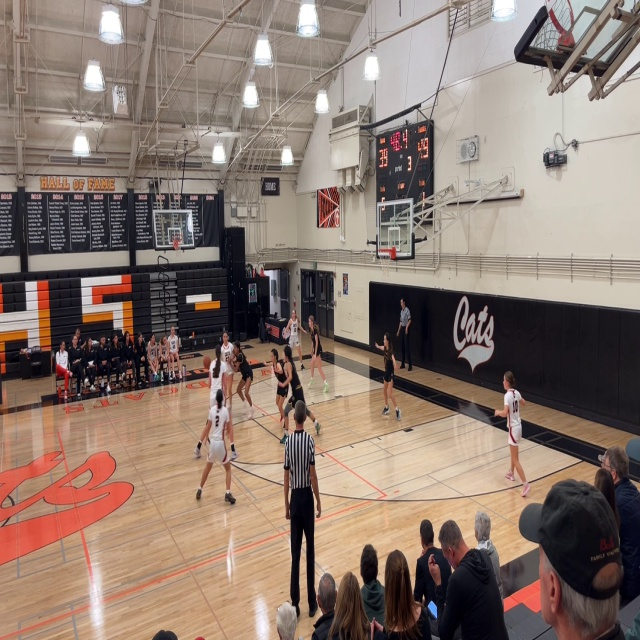Basketball: (203, 356, 211, 369)
